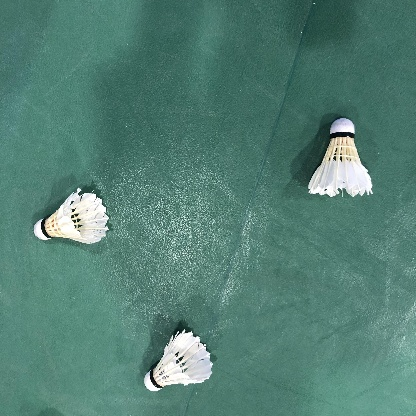ball_single: (308, 118, 373, 197), (144, 329, 213, 391), (33, 188, 109, 244)
